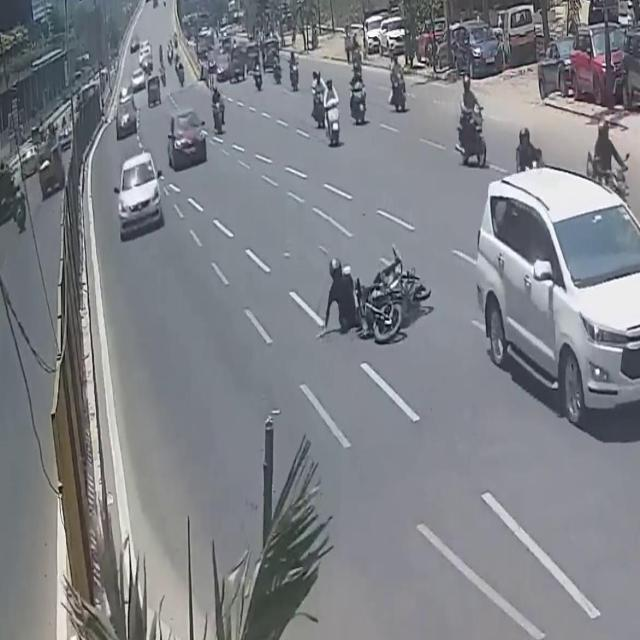accident: (317, 244, 438, 352)
non_accident: (531, 21, 640, 119), (203, 11, 269, 105), (413, 10, 502, 75), (121, 22, 163, 116), (361, 0, 411, 65)
